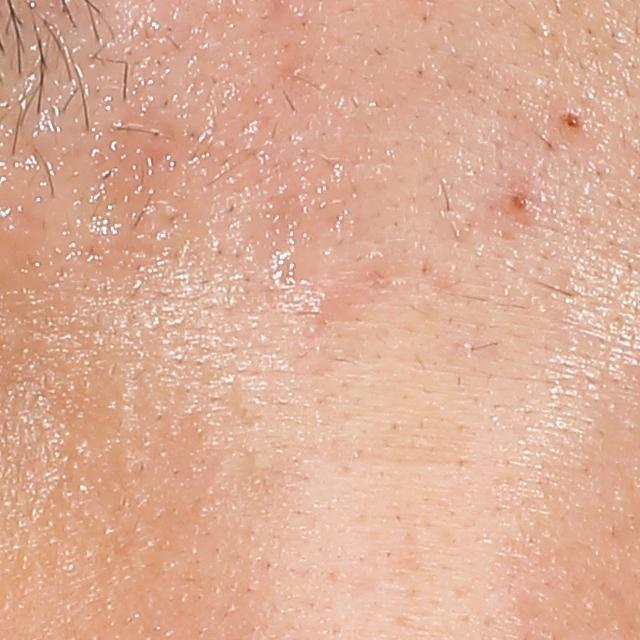papule: (509, 186, 533, 217)
